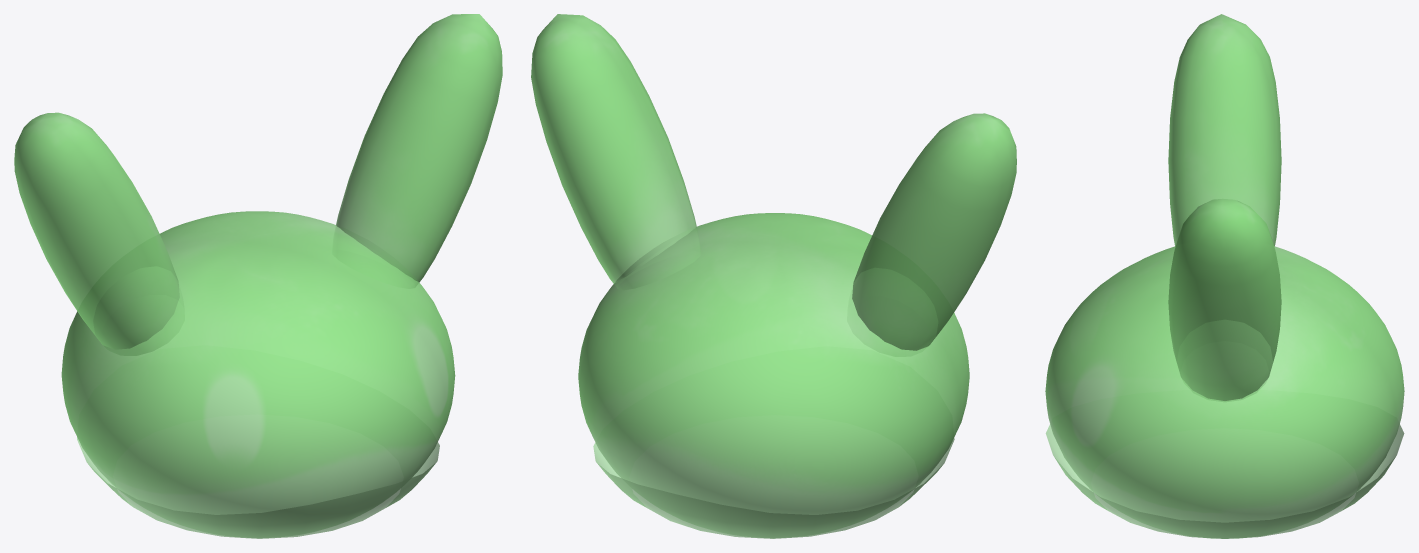
The model's file is BAP_02.glb.
The picture shows the model from 3 angles, left to right: view 1: azimuth 30°, elevation 25°; view 2: azimuth 150°, elevation 25°; view 3: azimuth 270°, elevation 25°; orthographic projection. The views are drawn at different scales.
Size of the model in its own units: 0.2567 by 0.2286 by 0.1854.
Materials: 1 (1 with a texture image).
